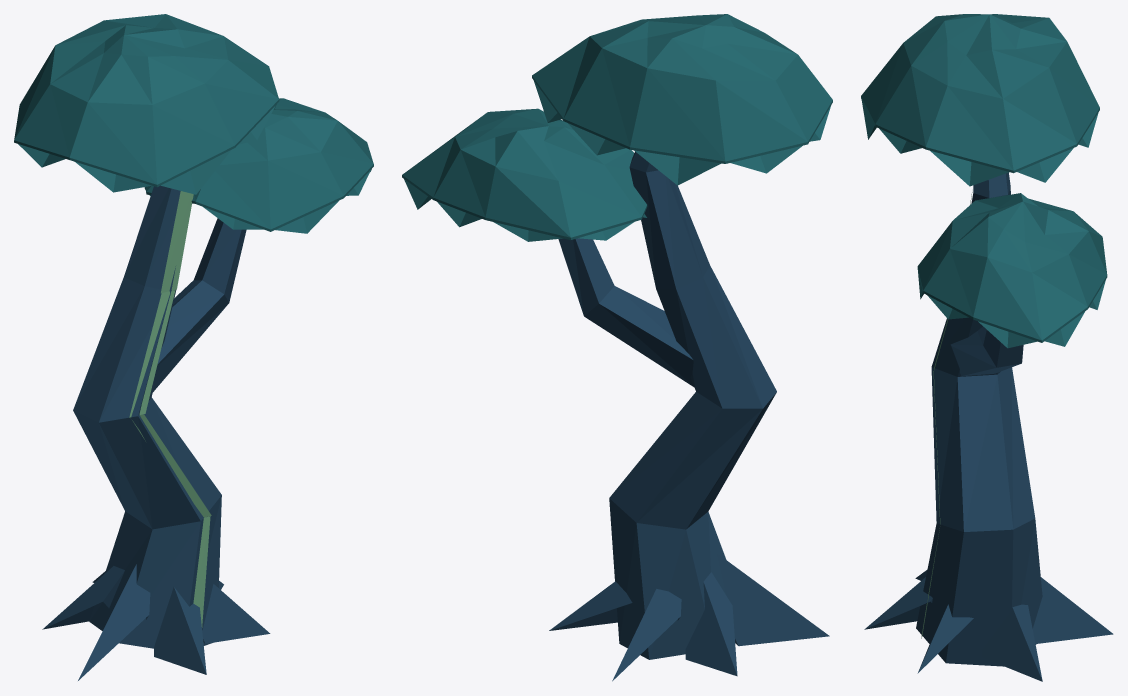
The picture shows the model from 3 angles, left to right: view 1: azimuth 30°, elevation 25°; view 2: azimuth 150°, elevation 25°; view 3: azimuth 270°, elevation 25°; orthographic projection. The views are drawn at different scales.
Visible parts, largest first — view 1: 复用森林树_5.001; view 2: 复用森林树_5.001; view 3: 复用森林树_5.001.
Boxes of the visible parts, x1,y1,x2,y2 form: 复用森林树_5.001: (14,14,373,680); 复用森林树_5.001: (402,14,832,681); 复用森林树_5.001: (861,14,1113,681).
Bounding box in the file's own units: 0.3676 × 0.5742 × 0.2135.
